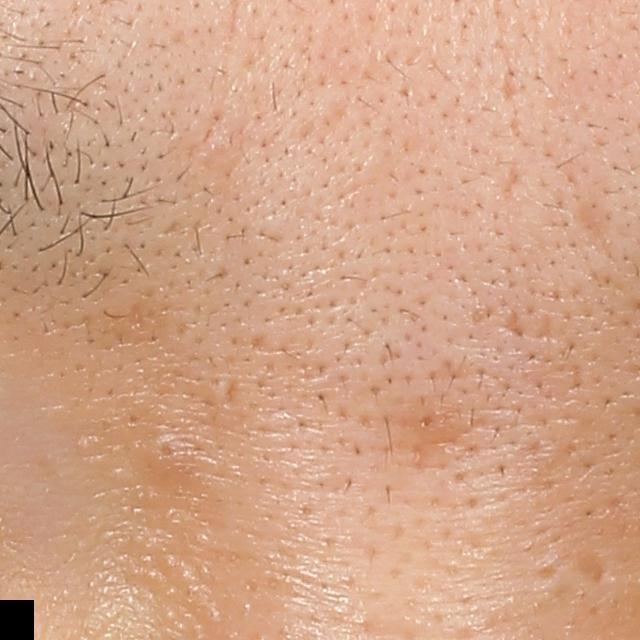atrophic_scar: (394, 404, 469, 476), (569, 187, 621, 264), (500, 166, 528, 202), (576, 556, 606, 588), (501, 313, 526, 341), (499, 69, 515, 103), (223, 380, 238, 408)
comedo: (146, 434, 186, 473)
